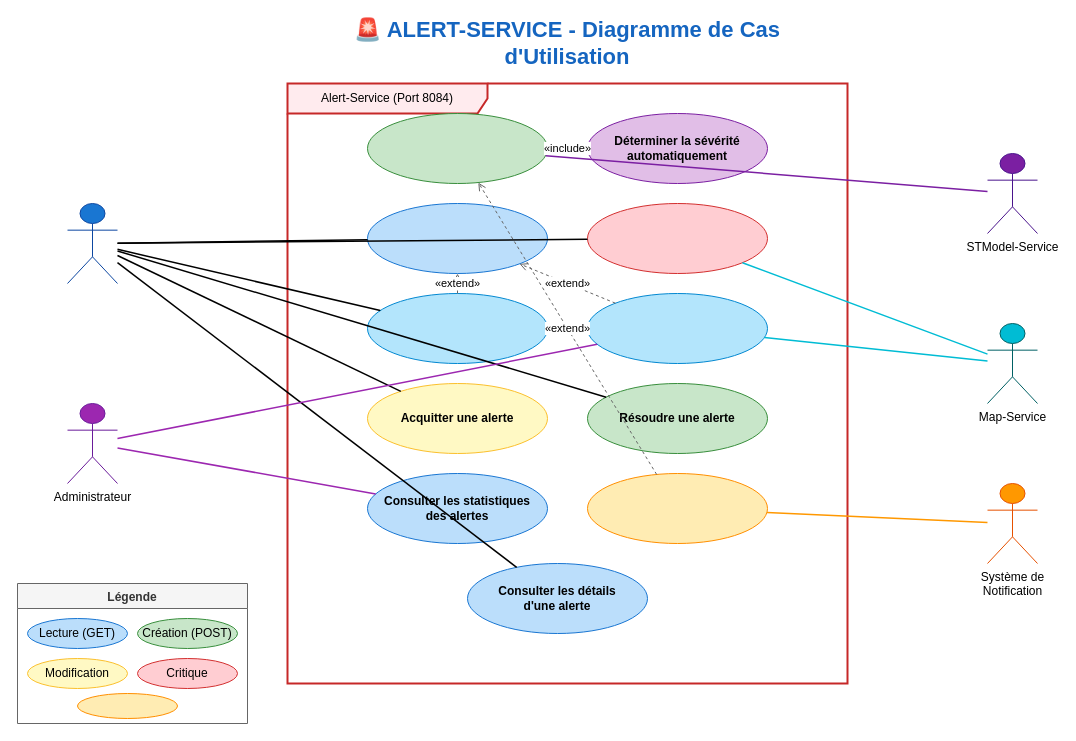
The diagram is 1076 pixels wide and 741 high, and some of its shapes have lost their labels. The centre of each missing label's shape, as x and y in pixels:
"Consulter les alertes actives (non résolues)" goes at (677,238).
"Consulter toutes les alertes" goes at (457,238).
"Créer une nouvelle alerte" goes at (457,148).
"Envoyer une notification" goes at (677,508).
"Externe" goes at (127,705).
"Filtrer les alertes par station" goes at (677,328).
"Filtrer par sévérité (INFO/WARNING/CRITICAL)" goes at (457,328).
"Opérateur / Superviseur" goes at (92,243).
